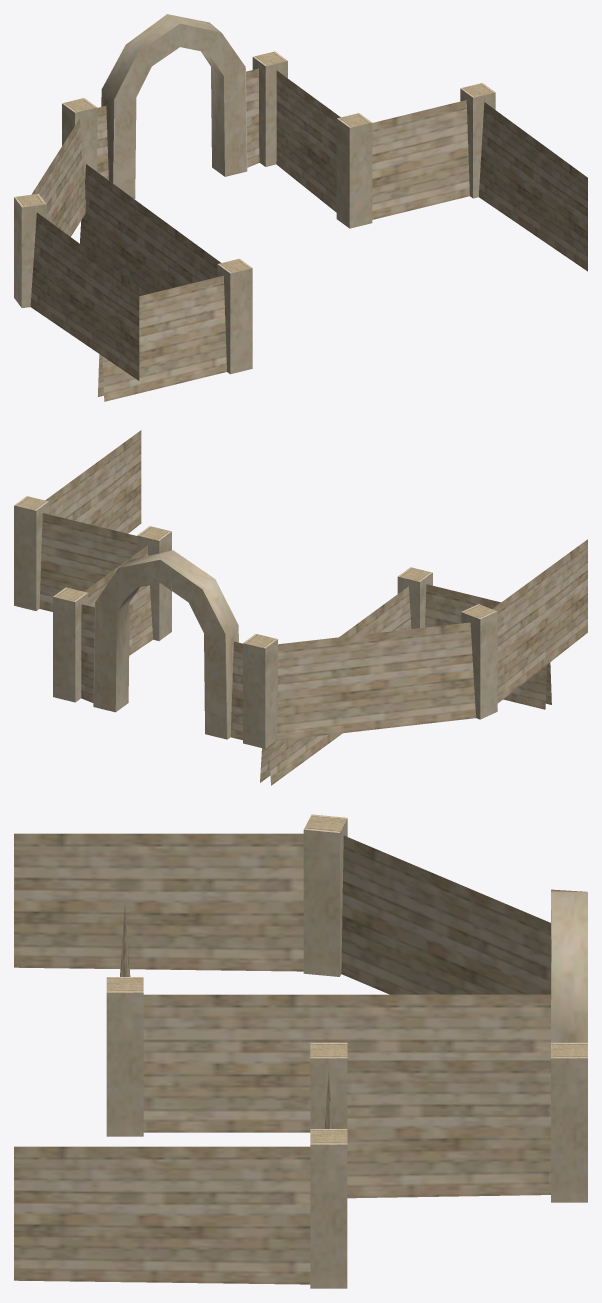
Rendered from poi_nboo_corral_half_32x32_s01_l1.fbx.
The picture shows the model from 3 angles, top to bottom: view 1: azimuth 30°, elevation 25°; view 2: azimuth 150°, elevation 25°; view 3: azimuth 270°, elevation 25°; orthographic projection. The views are drawn at different scales.
Parts seen in each view (by area): view 1: mesh_node; view 2: mesh_node; view 3: mesh_node.
Part boxes in pixels (x1,y1,x2,y2): mesh_node: [14, 14, 587, 401]; mesh_node: [14, 430, 587, 785]; mesh_node: [14, 814, 587, 1288].
Bounding box in the file's own units: 21.1 × 9 × 15.5.
Materials: 1 (1 with a texture image).
